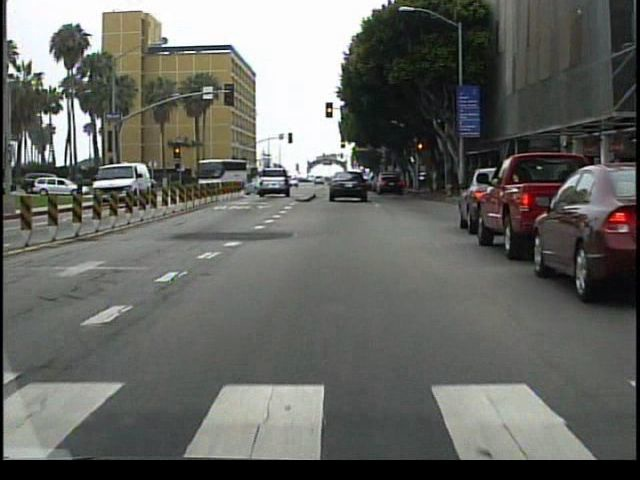person: (93, 172, 106, 207), (77, 167, 90, 198), (97, 171, 98, 204)
